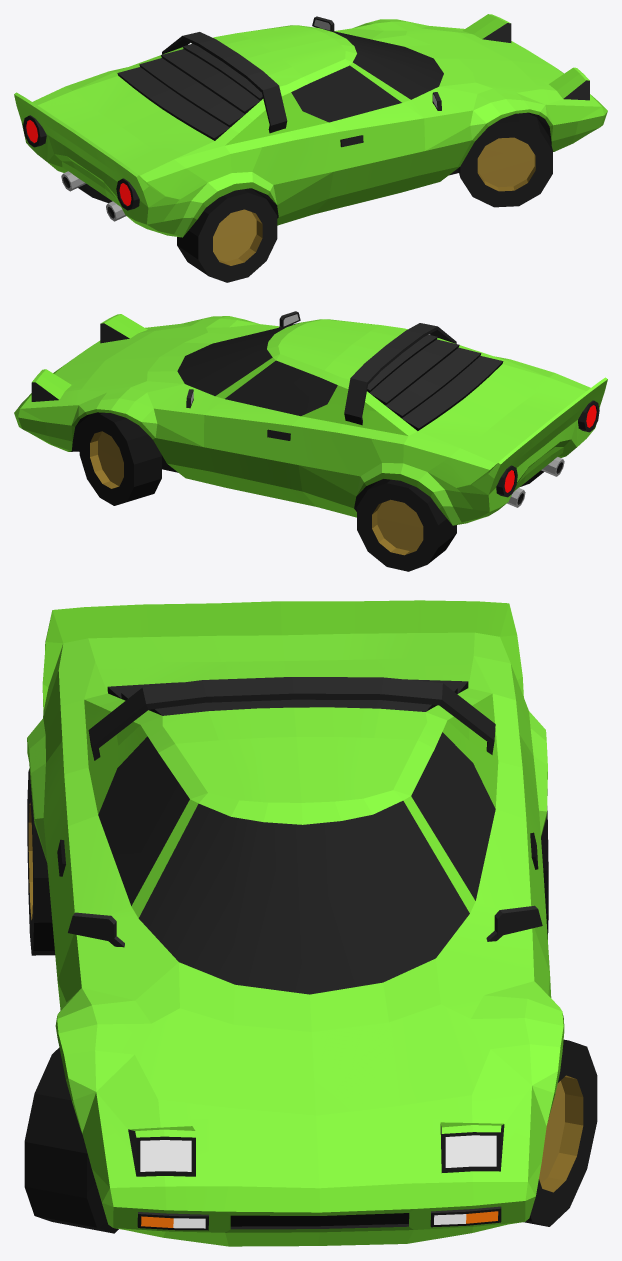
File: Car_075.glb
The picture shows the model from 3 angles, top to bottom: view 1: azimuth 30°, elevation 25°; view 2: azimuth 150°, elevation 25°; view 3: azimuth 270°, elevation 25°; orthographic projection. The views are drawn at different scales.
Visible parts, largest first — view 1: Car_075, wheel_0_Car_075_Wheel_1R, wheel_3_Car_075_Wheel_3R; view 2: Car_075, wheel_2_Car_075_Wheel_3L, wheel_1_Car_075_Wheel_2L; view 3: Car_075, wheel_0_Car_075_Wheel_1R, wheel_1_Car_075_Wheel_2L, wheel_3_Car_075_Wheel_3R.
Part boxes in pixels (x1=…): Car_075: x1=14, y1=14, x2=607, y2=237; wheel_0_Car_075_Wheel_1R: x1=458, y1=113, x2=552, y2=207; wheel_3_Car_075_Wheel_3R: x1=177, y1=188, x2=277, y2=282; Car_075: x1=14, y1=311, x2=607, y2=525; wheel_2_Car_075_Wheel_3L: x1=357, y1=479, x2=456, y2=571; wheel_1_Car_075_Wheel_2L: x1=79, y1=412, x2=161, y2=505; Car_075: x1=27, y1=600, x2=564, y2=1246; wheel_0_Car_075_Wheel_1R: x1=24, y1=1047, x2=118, y2=1233; wheel_1_Car_075_Wheel_2L: x1=523, y1=1039, x2=597, y2=1226; wheel_3_Car_075_Wheel_3R: x1=27, y1=768, x2=55, y2=955.
Size of the model in its own units: 4.68 by 1.43 by 2.35.
3 materials, 3 textured.
